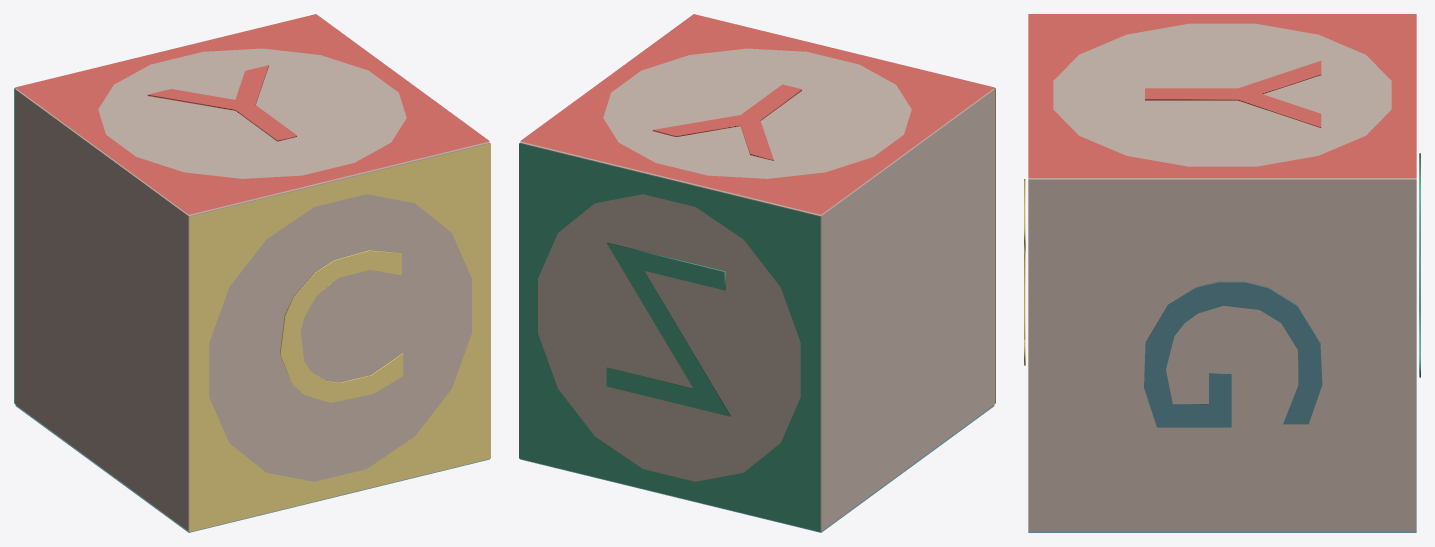
3 renders of one model, left to right at view 1: azimuth 30°, elevation 25°; view 2: azimuth 150°, elevation 25°; view 3: azimuth 270°, elevation 25°, orthographic. The views are drawn at different scales.
Parts seen in each view (by area): view 1: cube; view 2: cube; view 3: cube.
Boxes of the visible parts, x1=… form: cube: x1=14, y1=14, x2=490, y2=532; cube: x1=519, y1=14, x2=995, y2=532; cube: x1=1024, y1=14, x2=1420, y2=532.
Size of the model in its own units: 0.0453 by 0.046 by 0.046.
